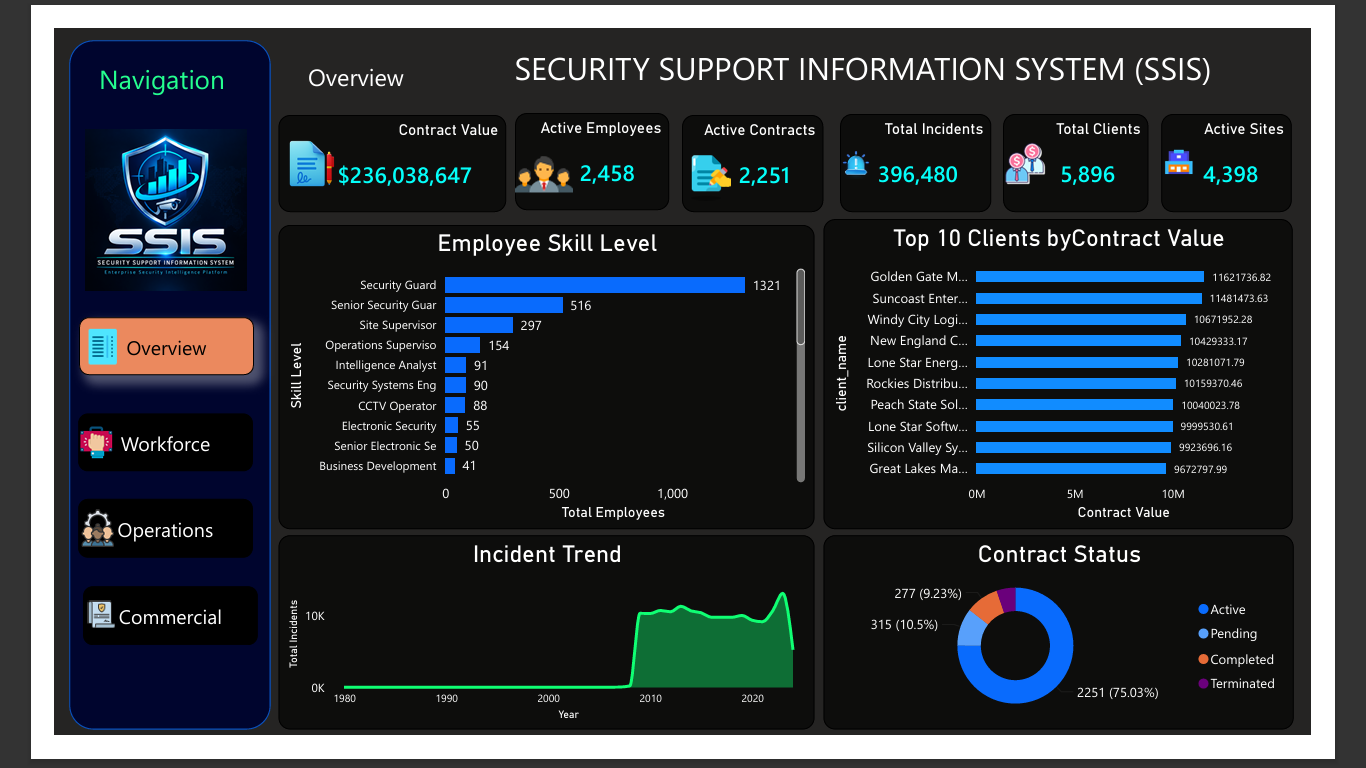

What the dashboard file says about the page in this screenshot:
{"tool":"powerbi","page":{"name":"Overview","canvas":[1280,720],"ordinal":0},"visuals":[{"type":"textbox","box":[386.4,11.8,874.3,64.7],"z":0},{"type":"shape","box":[14.7,11.8,205.7,702.4],"z":1000},{"type":"textbox","box":[30.9,27.9,164.6,61.7],"z":2000},{"type":"actionButton","box":[25,293.9,178,58.9],"z":2000,"group":"g6"},{"type":"cardVisual","title":"Active Contracts","fields":{"Data":["ssis contract.Active Contracts"]},"box":[639.4,87.8,144,99.4],"z":3000,"group":"g10"},{"type":"clusteredBarChart","title":"Employee Skill Level","fields":{"Category":["ssis employee.skill_level"],"Y":["CountNonNull(ssis employee.employee_name)"]},"box":[227.8,199.8,546.6,310],"z":3000},{"type":"actionButton","box":[23.5,392.3,178,58.9],"z":3000,"group":"g7"},{"type":"donutChart","title":"Contract Status","fields":{"Y":["CountNonNull(ssis contract.contract_id)"],"Category":["ssis contract.status"]},"box":[783.2,515.8,479,198.4],"z":4000},{"type":"group","id":"g1","title":"Group 1","box":[227.5,87.8,231.8,99.4],"z":5000},{"type":"actionButton","box":[23.5,479,178,60.2],"z":5000,"group":"g8"},{"type":"group","id":"g2","title":"Group 2","box":[469.4,86.4,157,99.4],"z":6000},{"type":"actionButton","box":[29.4,568,177.8,60.2],"z":6000,"group":"g9"},{"type":"cardVisual","title":"Active Employees","fields":{"Data":["ssis employee.Active Employees"]},"box":[469.4,86.4,157,99.4],"z":7000,"group":"g2"},{"type":"group","id":"g3","title":"Group 3","box":[800,86.7,154,100.2],"z":7000},{"type":"group","id":"g4","title":"Group 4","box":[966,86.7,148,100.2],"z":8000},{"type":"cardVisual","title":"Active Sites","fields":{"Data":["ssis site.Active Sites"]},"box":[1127.5,86.7,133.1,100.2],"z":8000,"group":"g5"},{"type":"image","box":[639.4,113.7,49,73.4],"z":8000,"group":"g10"},{"type":"group","id":"g5","title":"Group 5","box":[1127.5,86.7,133.1,100.2],"z":9000},{"type":"cardVisual","title":"Contract Value","fields":{"Data":["ssis contract.Total Contract Value"]},"box":[227.5,87.8,231.8,99.4],"z":10000,"group":"g1"},{"type":"group","id":"g6","title":"Group 6","box":[25,293.9,177.8,58.8],"z":10000},{"type":"cardVisual","title":"Total Incidents","fields":{"Data":["ssis incident.Total Incidents"]},"box":[800,86.7,154,100.2],"z":11000,"group":"g3"},{"type":"group","id":"g7","title":"Group 7","box":[23.5,392.3,177.8,58.8],"z":11000},{"type":"cardVisual","title":"Total Clients","fields":{"Data":["ssis client.Total Clients"]},"box":[966,86.7,148,100.2],"z":12000,"group":"g4"},{"type":"group","id":"g8","title":"Group 8","box":[23.5,479,177.8,60.2],"z":12000},{"type":"group","id":"g9","title":"Group 9","box":[29.4,567.2,177.8,61.7],"z":13000},{"type":"image","box":[227.5,87.8,59,97.9],"z":13005,"group":"g1"},{"type":"image","box":[469.4,113.8,59,70.6],"z":13007,"group":"g2"},{"type":"image","box":[966.3,89.3,44.6,95],"z":13008,"group":"g4"},{"type":"image","box":[1127.5,87.8,36,95],"z":13009,"group":"g5"},{"type":"image","box":[800.6,89.3,31.7,95],"z":13010,"group":"g3"},{"type":"image","box":[23.5,392.3,36.7,58.9],"z":13016,"group":"g7"},{"type":"image","box":[26.3,293.9,45.8,58.9],"z":13017,"group":"g6"},{"type":"image","box":[24.8,479,38,58.9],"z":13018,"group":"g8"},{"type":"image","box":[34.7,567.2,27.9,59.4],"z":13019,"group":"g9"},{"type":"group","id":"g10","title":"Group 10","box":[639.4,87.8,144,99.4],"z":14000},{"type":"lineChart","title":"Incident Trend","fields":{"Y":["CountNonNull(ssis incident.incident_type)"],"Category":["ssis incident.incident_datetime.Variation.Date Hierarchy.Year","ssis incident.incident_datetime.Variation.Date Hierarchy.Quarter","ssis incident.incident_datetime.Variation.Date Hierarchy.Month","ssis incident.incident_datetime.Variation.Date Hierarchy.Day"]},"box":[227.8,515.8,546.6,198.4],"z":15000},{"type":"clusteredBarChart","title":"Top 10 Clients byContract Value","fields":{"Category":["ssis client.client_name"],"Y":["Sum(ssis contract.contract_value)"]},"box":[783.2,194,477.6,315.9],"z":16000},{"type":"textbox","box":[227.8,27.9,158.7,48.5],"z":17000},{"type":"image","box":[30.9,86.7,164.6,195.4],"z":18000}]}

Visuals, with their boxes in screenshot pixels (x1, y1, x2, y2), scaled from the page's 1280x720 canvas onto the 1366x768 screenshot:
textbox: rect(412, 13, 1345, 82)
shape: rect(16, 13, 235, 762)
textbox: rect(33, 30, 209, 96)
actionButton: rect(27, 313, 217, 376)
"Active Contracts" cardVisual: rect(682, 94, 836, 200)
"Employee Skill Level" clusteredBarChart: rect(243, 213, 826, 544)
actionButton: rect(25, 418, 215, 481)
"Contract Status" donutChart: rect(836, 550, 1347, 762)
"Group 1" group: rect(243, 94, 490, 200)
actionButton: rect(25, 511, 215, 575)
"Group 2" group: rect(501, 92, 668, 198)
actionButton: rect(31, 606, 221, 670)
"Active Employees" cardVisual: rect(501, 92, 668, 198)
"Group 3" group: rect(854, 92, 1018, 199)
"Group 4" group: rect(1031, 92, 1189, 199)
"Active Sites" cardVisual: rect(1203, 92, 1345, 199)
image: rect(682, 121, 735, 200)
"Group 5" group: rect(1203, 92, 1345, 199)
"Contract Value" cardVisual: rect(243, 94, 490, 200)
"Group 6" group: rect(27, 313, 216, 376)
"Total Incidents" cardVisual: rect(854, 92, 1018, 199)
"Group 7" group: rect(25, 418, 215, 481)
"Total Clients" cardVisual: rect(1031, 92, 1189, 199)
"Group 8" group: rect(25, 511, 215, 575)
"Group 9" group: rect(31, 605, 221, 671)
image: rect(243, 94, 306, 198)
image: rect(501, 121, 564, 197)
image: rect(1031, 95, 1079, 197)
image: rect(1203, 94, 1242, 195)
image: rect(854, 95, 888, 197)
image: rect(25, 418, 64, 481)
image: rect(28, 313, 77, 376)
image: rect(26, 511, 67, 574)
image: rect(37, 605, 67, 668)
"Group 10" group: rect(682, 94, 836, 200)
"Incident Trend" lineChart: rect(243, 550, 826, 762)
"Top 10 Clients byContract Value" clusteredBarChart: rect(836, 207, 1346, 544)
textbox: rect(243, 30, 412, 81)
image: rect(33, 92, 209, 301)
